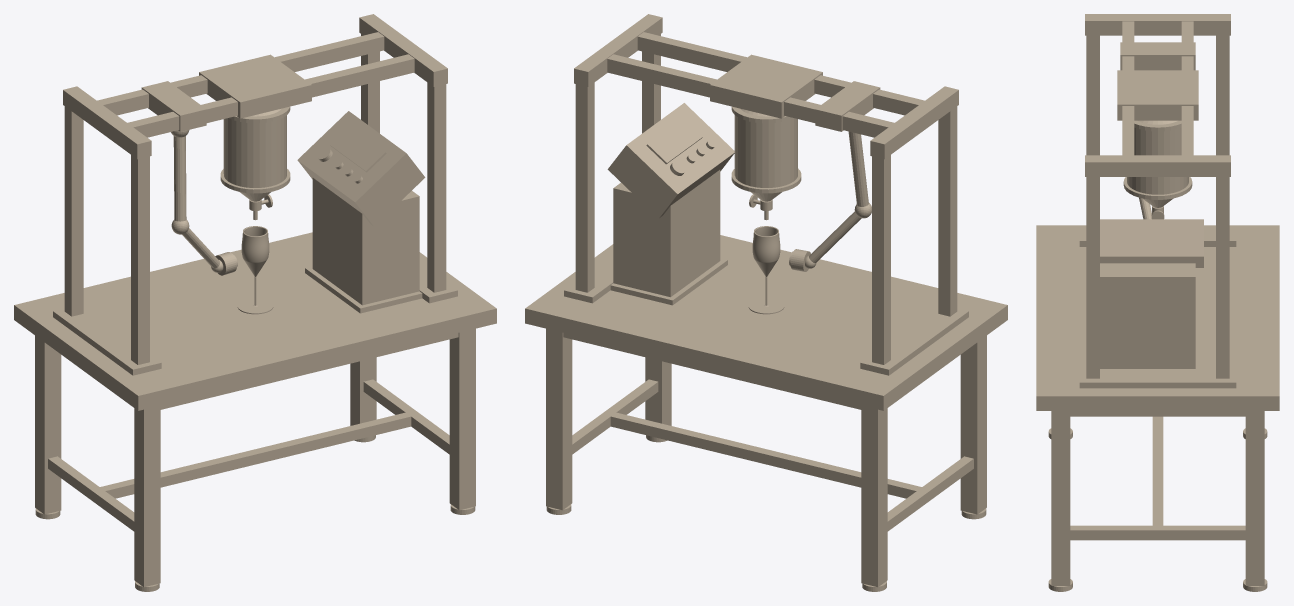
Rendered from 3dcodebench_Wineglass_seed0_L6_Q0__gemini4argon.glb.
The picture shows the model from 3 angles, left to right: view 1: azimuth 30°, elevation 25°; view 2: azimuth 150°, elevation 25°; view 3: azimuth 270°, elevation 25°; orthographic projection. The views are drawn at different scales.
Visible parts, largest first — view 1: object; view 2: object; view 3: object.
Part boxes in pixels (<box>): object: <box>14,14,496,591</box>; object: <box>525,14,1007,591</box>; object: <box>1036,14,1279,591</box>.
Size of the model in its own units: 1.5 by 1.73 by 0.9.
